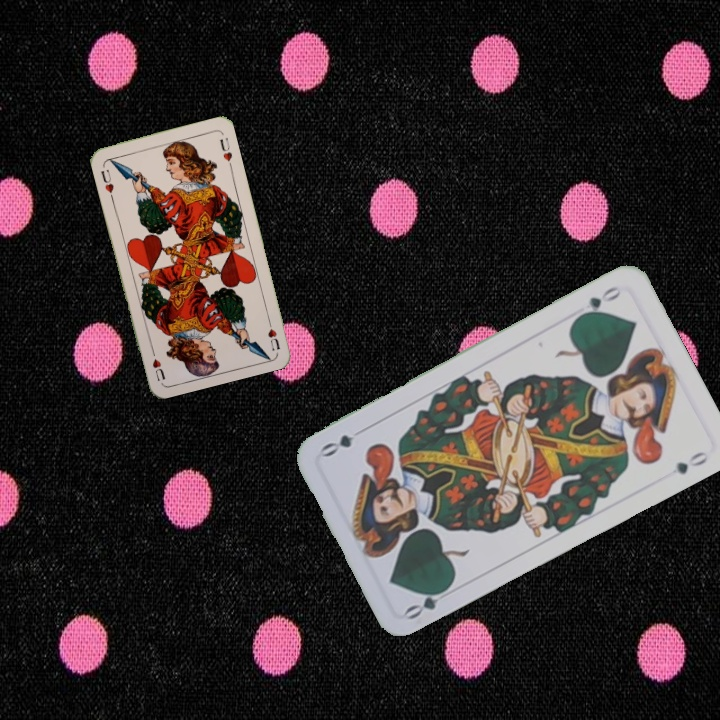GO: (401, 581, 457, 623), (573, 282, 626, 321)
HU: (264, 313, 282, 353), (97, 165, 116, 201)
